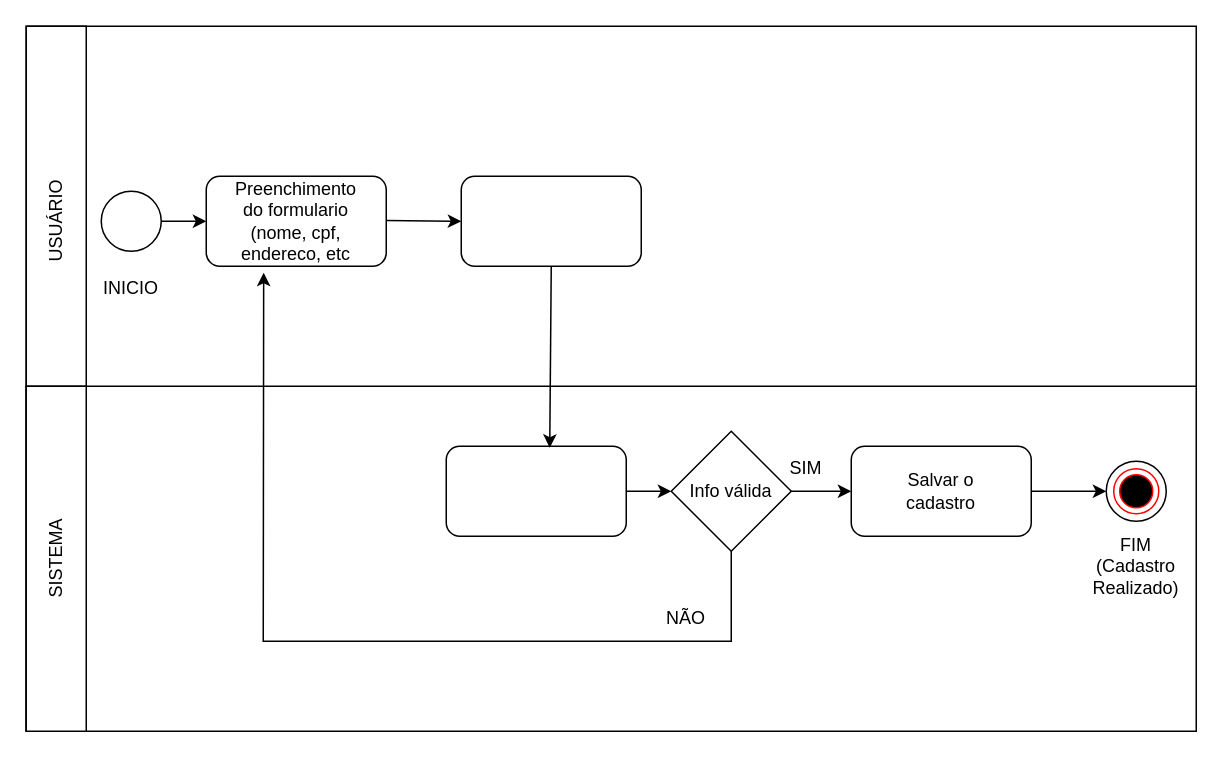
This 1223x758 diagram has some shape labels left out. Here are the shapes that lost their labels. From the top down, the box of each, then its label:
(460, 175, 641, 266): Clique em Salvar
(445, 445, 626, 536): Validar informações
